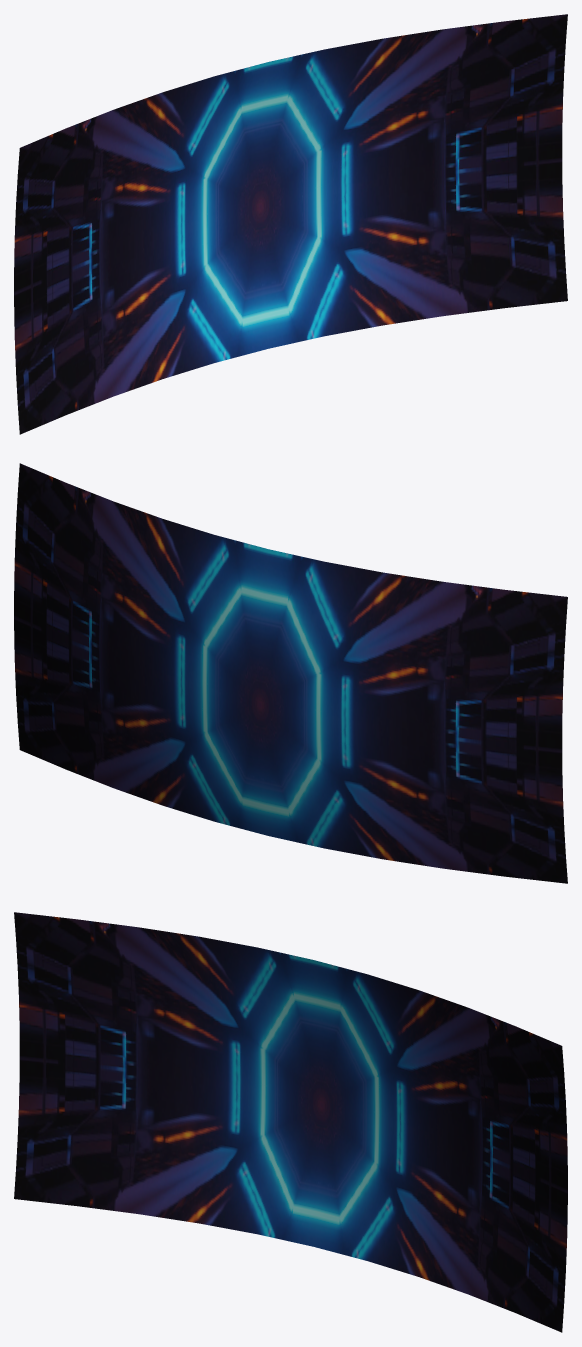
The model's file is C_Futuro5.fbx.
3 views of the same model, one above another, from view 1: azimuth 30°, elevation 25°; view 2: azimuth 150°, elevation 25°; view 3: azimuth 330°, elevation 25° (orthographic).
Visible parts, largest first — view 1: pPlane1; view 2: pPlane1; view 3: pPlane1.
Part boxes in pixels (left/top/right/bottom): pPlane1: left=14, top=14, right=567, bottom=434; pPlane1: left=14, top=463, right=567, bottom=883; pPlane1: left=14, top=912, right=567, bottom=1332.
Size of the model in its own units: 400 by 200 by 42.49.
1 material, 1 textured.
